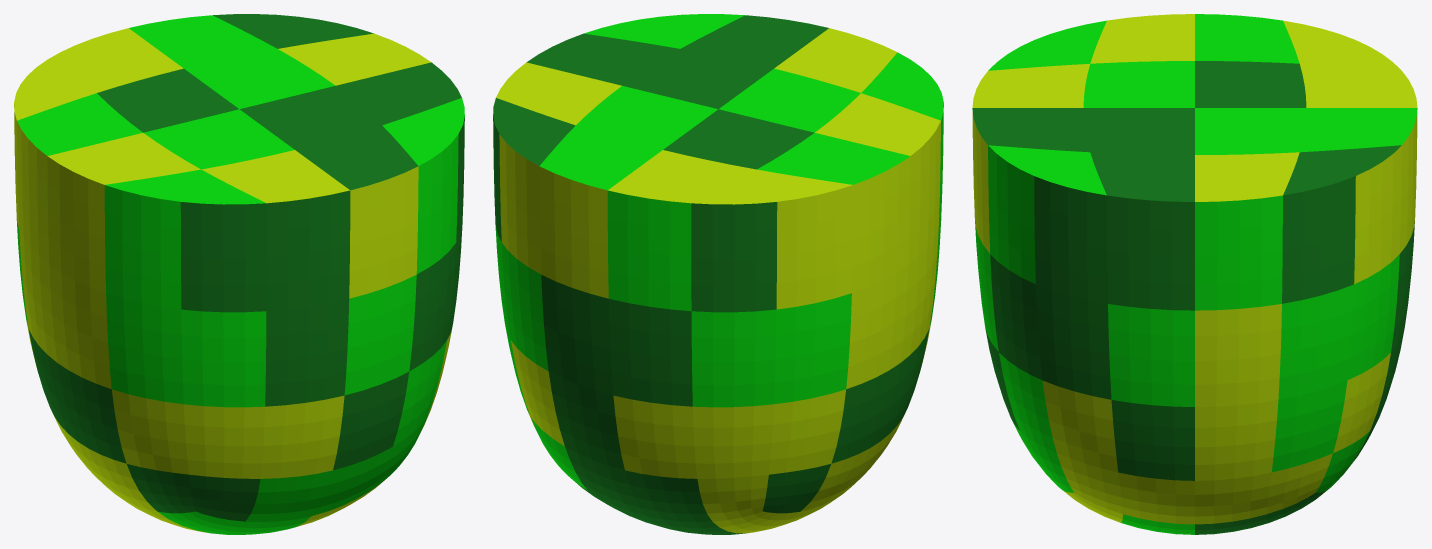
The model's file is platform.fbx.
The picture shows the model from 3 angles, left to right: view 1: azimuth 30°, elevation 25°; view 2: azimuth 150°, elevation 25°; view 3: azimuth 270°, elevation 25°; orthographic projection.
Parts seen in each view (by area): view 1: Cube; view 2: Cube; view 3: Cube.
Boxes of the visible parts, left/top/right/bottom form: Cube: left=14, top=14, right=464, bottom=534; Cube: left=493, top=14, right=943, bottom=534; Cube: left=972, top=14, right=1417, bottom=534.
Size of the model in its own units: 179 by 180 by 179.
